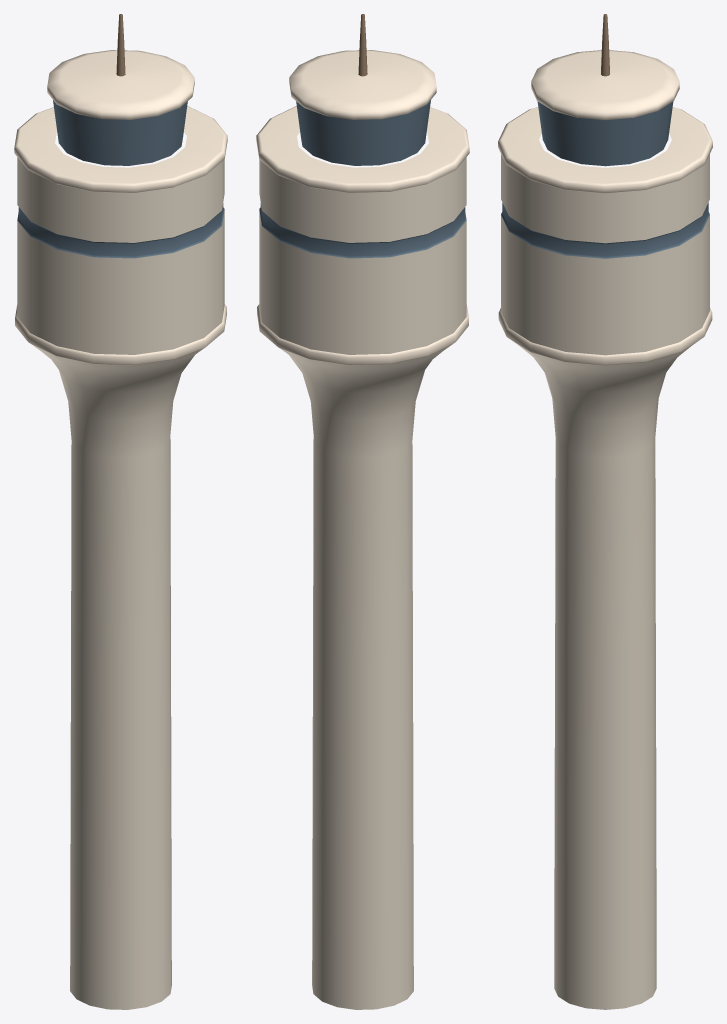
Rendered from clt-control-tower.glb.
3 renders of one model, left to right at view 1: azimuth 30°, elevation 25°; view 2: azimuth 150°, elevation 25°; view 3: azimuth 270°, elevation 25°, orthographic.
Parts seen in each view (by area): view 1: Charlotte Douglas Air Traffic Control Tower; view 2: Charlotte Douglas Air Traffic Control Tower; view 3: Charlotte Douglas Air Traffic Control Tower.
Part boxes in pixels (x1,y1,x2,y2): Charlotte Douglas Air Traffic Control Tower: (14,14,227,1009); Charlotte Douglas Air Traffic Control Tower: (256,14,469,1009); Charlotte Douglas Air Traffic Control Tower: (498,14,712,1009).
Bounding box in the file's own units: 22.6 × 113 × 22.6.
